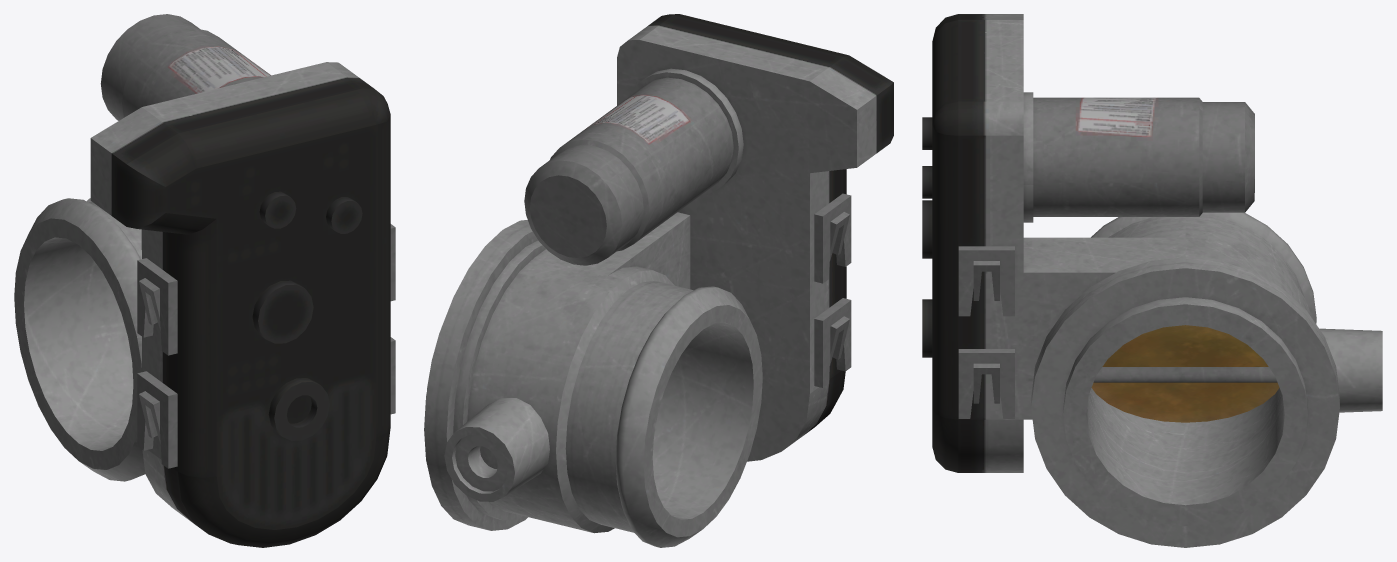
The model's file is throttlebody.glb.
3 renders of one model, left to right at view 1: azimuth 30°, elevation 25°; view 2: azimuth 150°, elevation 25°; view 3: azimuth 270°, elevation 25°, orthographic. The views are drawn at different scales.
Visible parts, largest first — view 1: r4_przepustnica(0); view 2: r4_przepustnica(0); view 3: r4_przepustnica(0).
Part boxes in pixels (bbox=[...]): r4_przepustnica(0): bbox=[14, 14, 395, 547]; r4_przepustnica(0): bbox=[424, 14, 893, 547]; r4_przepustnica(0): bbox=[922, 14, 1382, 547].
Size of the model in its own units: 0.0017 by 0.00242 by 0.0024.
Materials: 1 (1 with a texture image).
